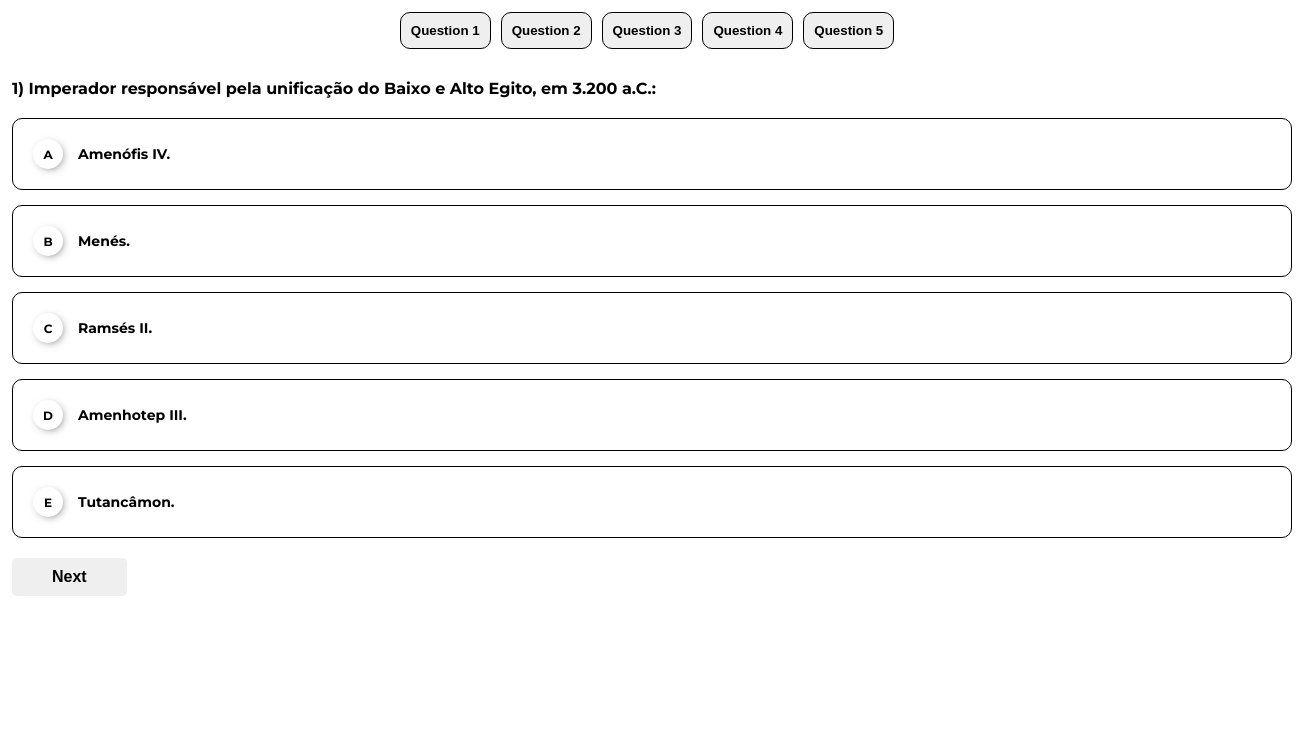
Test: Quiz › should render the save when it is in the last question
Click the button "Next".
click(69, 577)  # box [12,558,127,596]
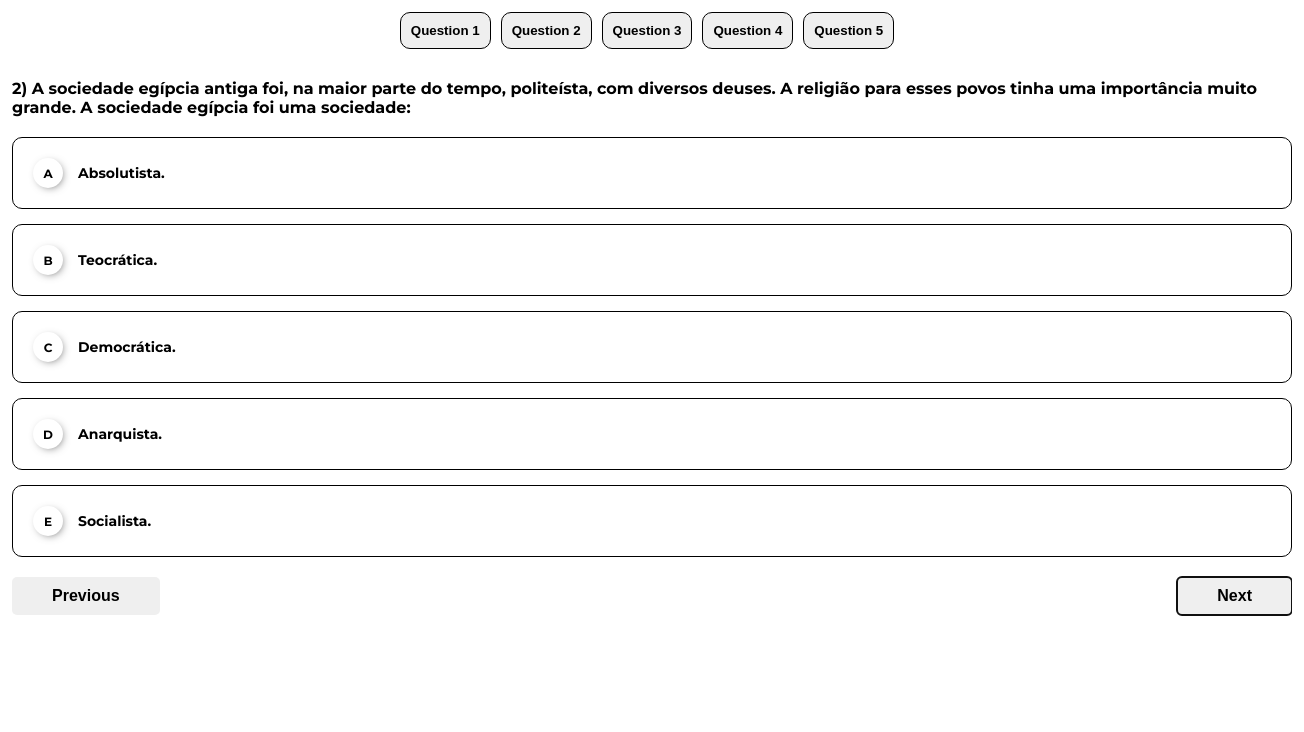
Click the button "Next".
click(1235, 596)  # box [1177,577,1292,615]
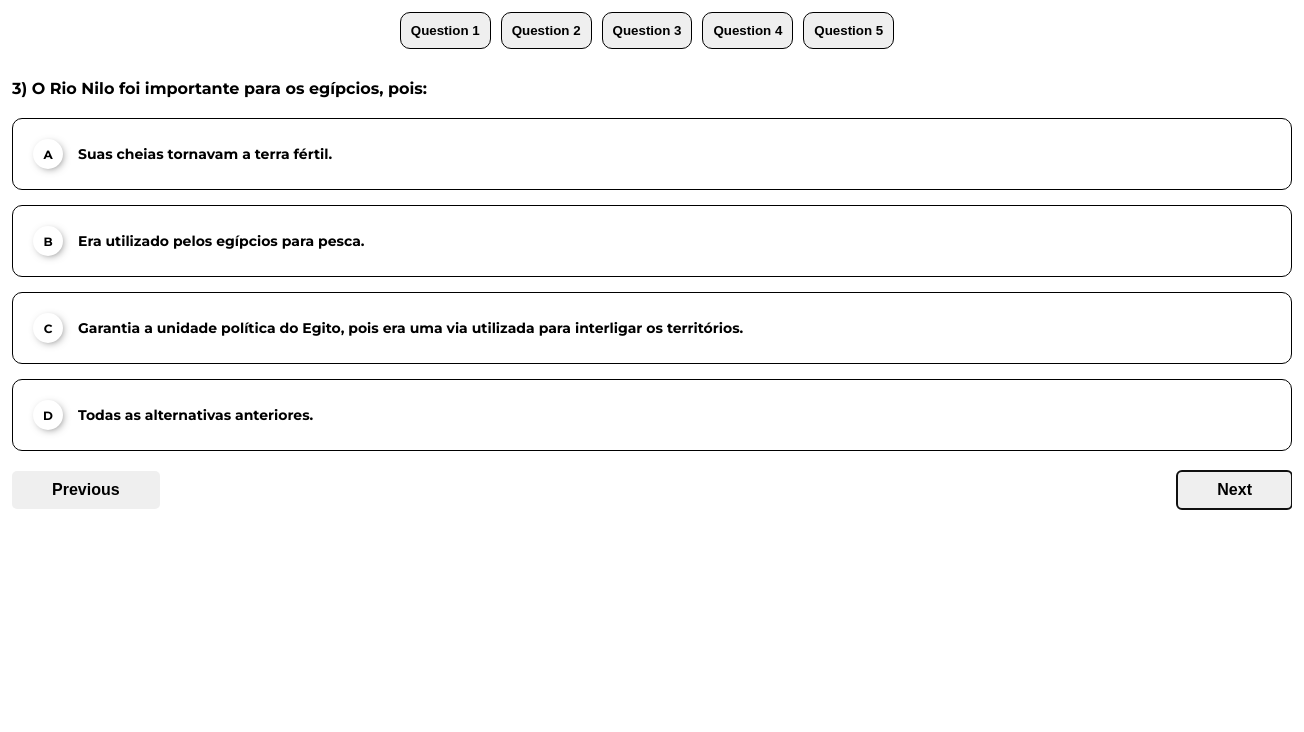
Click the button "Next".
click(1235, 490)  # box [1177,471,1292,509]
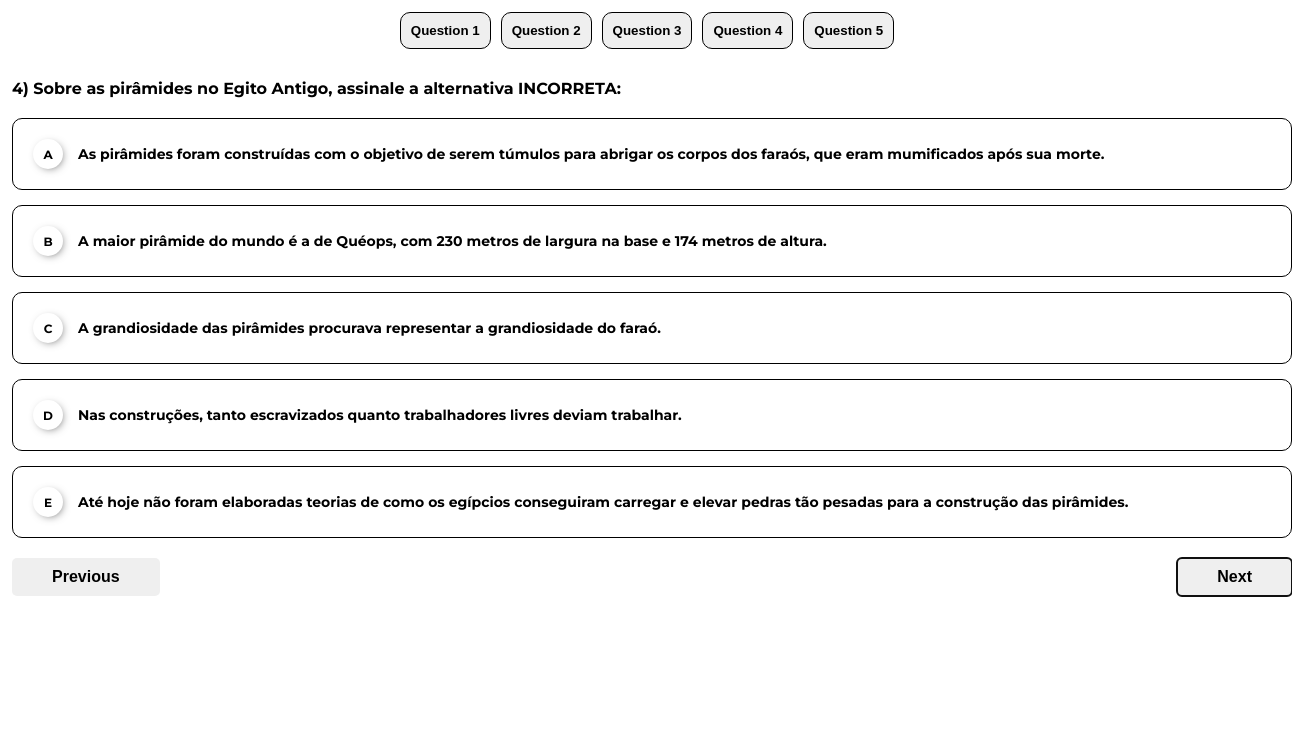
Click the button "Next".
click(1235, 577)  # box [1177,558,1292,596]
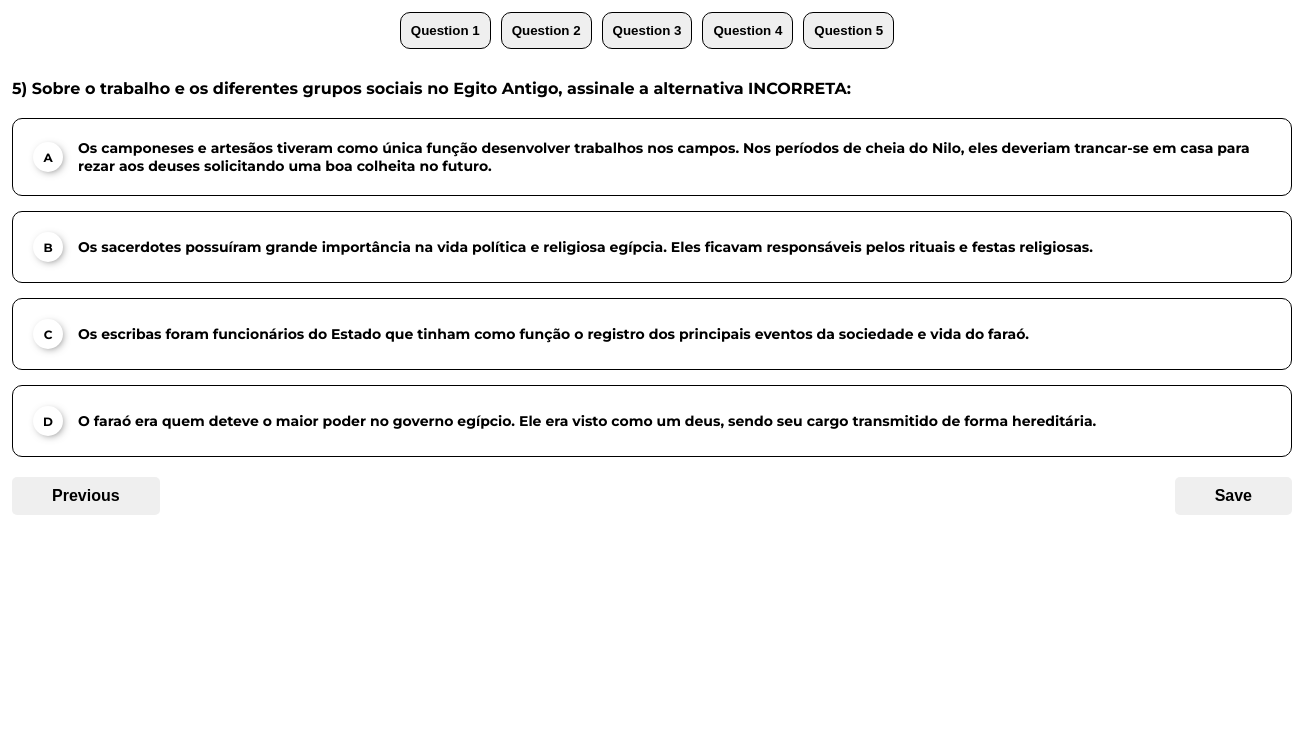
expect the button "Save" is shown: met, box [1175,477,1292,515]
